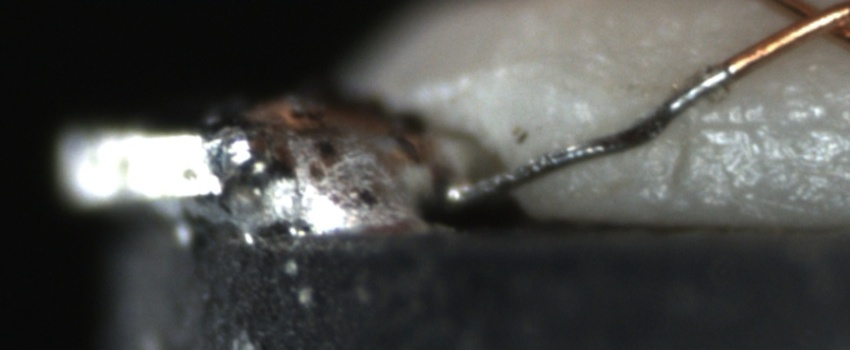CL: (766, 1, 848, 47)
DL: (687, 94, 850, 153)
TS: (445, 64, 733, 204)
TTCW: (435, 25, 803, 205)
